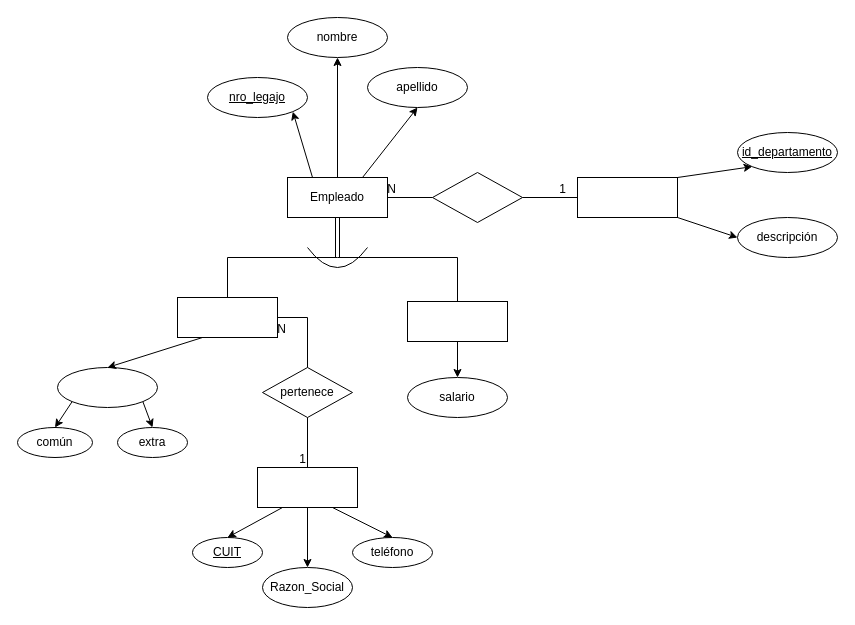
This 855x625 diagram has some shape labels left out. Each missing label, with the box of its shape:
Consultora: (256, 466, 358, 508)
Contratado: (176, 296, 278, 338)
Departamento: (576, 176, 678, 218)
Efectivo: (406, 300, 508, 342)
precio_hora: (56, 366, 158, 408)
trabaja: (432, 172, 522, 222)
